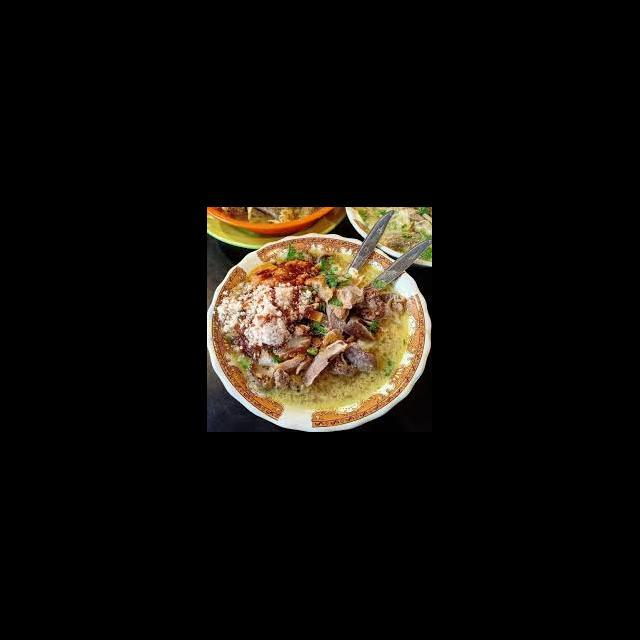Soto: (208, 229, 430, 430)
